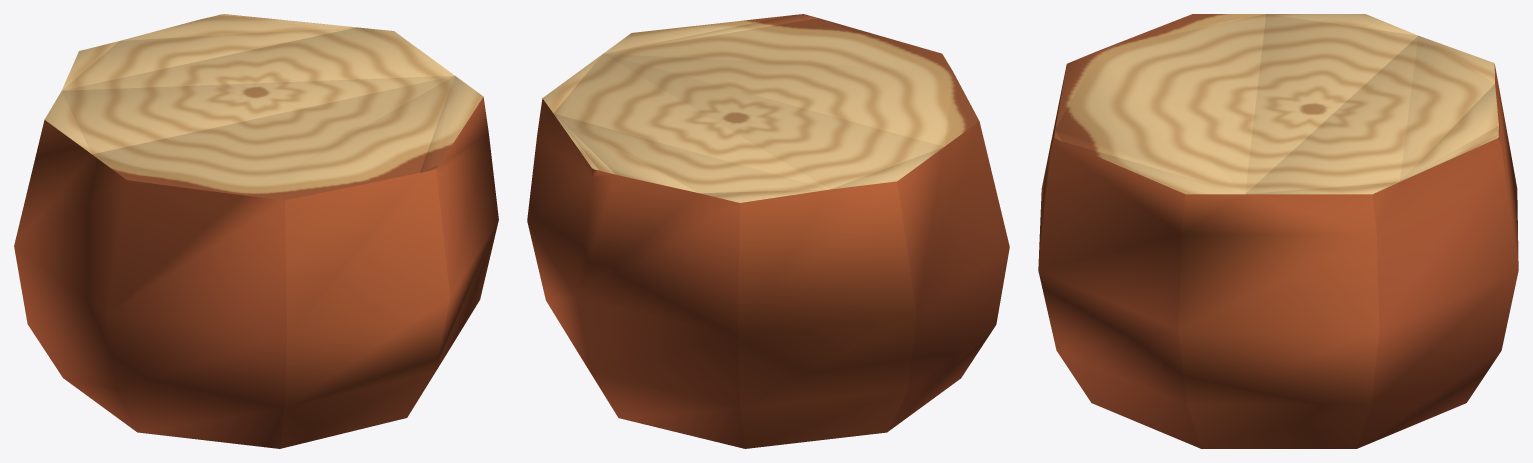
File: tree_1_b_stump.glb
3 views of the same model, side by side, from view 1: azimuth 30°, elevation 25°; view 2: azimuth 150°, elevation 25°; view 3: azimuth 270°, elevation 25° (orthographic). The views are drawn at different scales.
Parts seen in each view (by area): view 1: tree_1_b_stump; view 2: tree_1_b_stump; view 3: tree_1_b_stump.
Part boxes in pixels (bbox=[...]): tree_1_b_stump: bbox=[14, 14, 498, 448]; tree_1_b_stump: bbox=[527, 14, 1009, 448]; tree_1_b_stump: bbox=[1038, 14, 1518, 448].
Bounding box in the file's own units: 1.17 × 0.8933 × 1.19.
2 materials, 2 textured.
